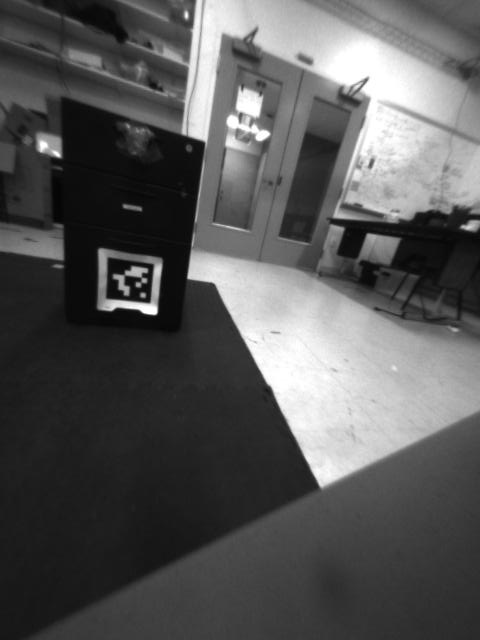door_handle: (255, 174, 276, 190)
drawer: (106, 116, 155, 168)
